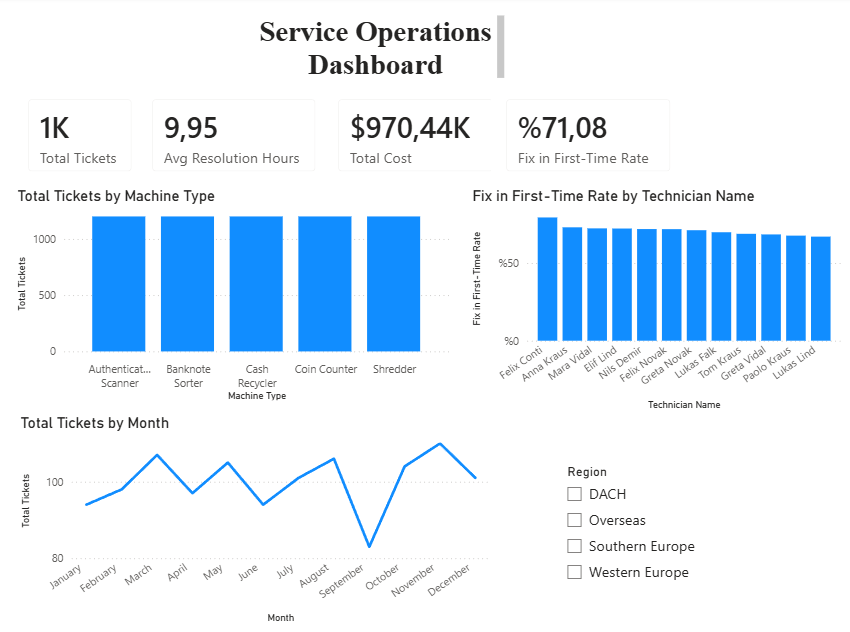

The page's visual inventory and layout, read from the dashboard file:
{"tool":"powerbi","page":{"name":"Page 1","canvas":[1280,720],"ordinal":0},"visuals":[{"type":"cardVisual","fields":{"Data":["service_tickets.Total Tickets"]},"box":[0,97.1,150,115.7],"z":0},{"type":"cardVisual","fields":{"Data":["service_tickets.Avg Resolution Hours"]},"box":[138.6,97.1,217.1,115.7],"z":1},{"type":"cardVisual","fields":{"Data":["service_tickets.Total Cost"]},"box":[347.1,97.1,208.6,115.7],"z":2},{"type":"cardVisual","fields":{"Data":["service_tickets.Fix in First-Time Rate"]},"box":[535.7,97.1,218.6,115.7],"z":3},{"type":"clusteredColumnChart","fields":{"Category":["machines.machine_type"],"Y":["service_tickets.Total Tickets"]},"box":[0,212.9,494.3,244.3],"z":4},{"type":"clusteredColumnChart","fields":{"Category":["technicians.technician_name"],"Y":["service_tickets.Fix in First-Time Rate"]},"box":[510,212.9,422.9,254.3],"z":6},{"type":"slicer","fields":{"Values":["customers.region"]},"box":[587.1,518.6,197.1,154.3],"z":7},{"type":"textbox","box":[265.7,0,290,97.1],"z":8},{"type":"lineChart","fields":{"Category":["dim_date.Month"],"Y":["service_tickets.Total Tickets"]},"box":[0,467.1,535.7,238.6],"z":9}]}

Visuals, with their boxes in screenshot pixels (x1, y1, x2, y2):
cardVisual - service_tickets.Total Tickets: locate(42, 117, 137, 190)
cardVisual - service_tickets.Avg Resolution Hours: locate(130, 117, 267, 190)
cardVisual - service_tickets.Total Cost: locate(261, 117, 393, 190)
cardVisual - service_tickets.Fix in First-Time Rate: locate(380, 117, 519, 190)
clusteredColumnChart - machines.machine_type x service_tickets.Total Tickets: locate(42, 190, 354, 344)
clusteredColumnChart - technicians.technician_name x service_tickets.Fix in First-Time Rate: locate(364, 190, 631, 350)
slicer - customers.region: locate(413, 383, 537, 480)
textbox: locate(210, 55, 393, 117)
lineChart - dim_date.Month x service_tickets.Total Tickets: locate(42, 350, 380, 501)
